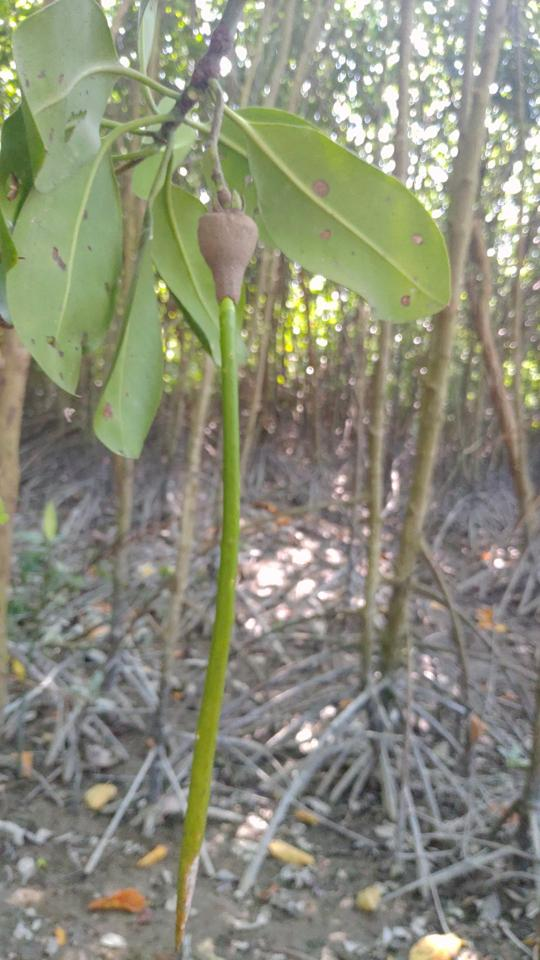setengah matang: (155, 188, 276, 951)
